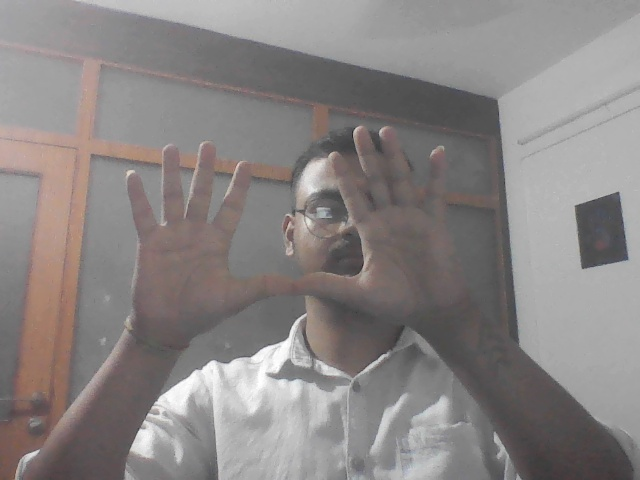Cheers: (113, 110, 483, 362)
